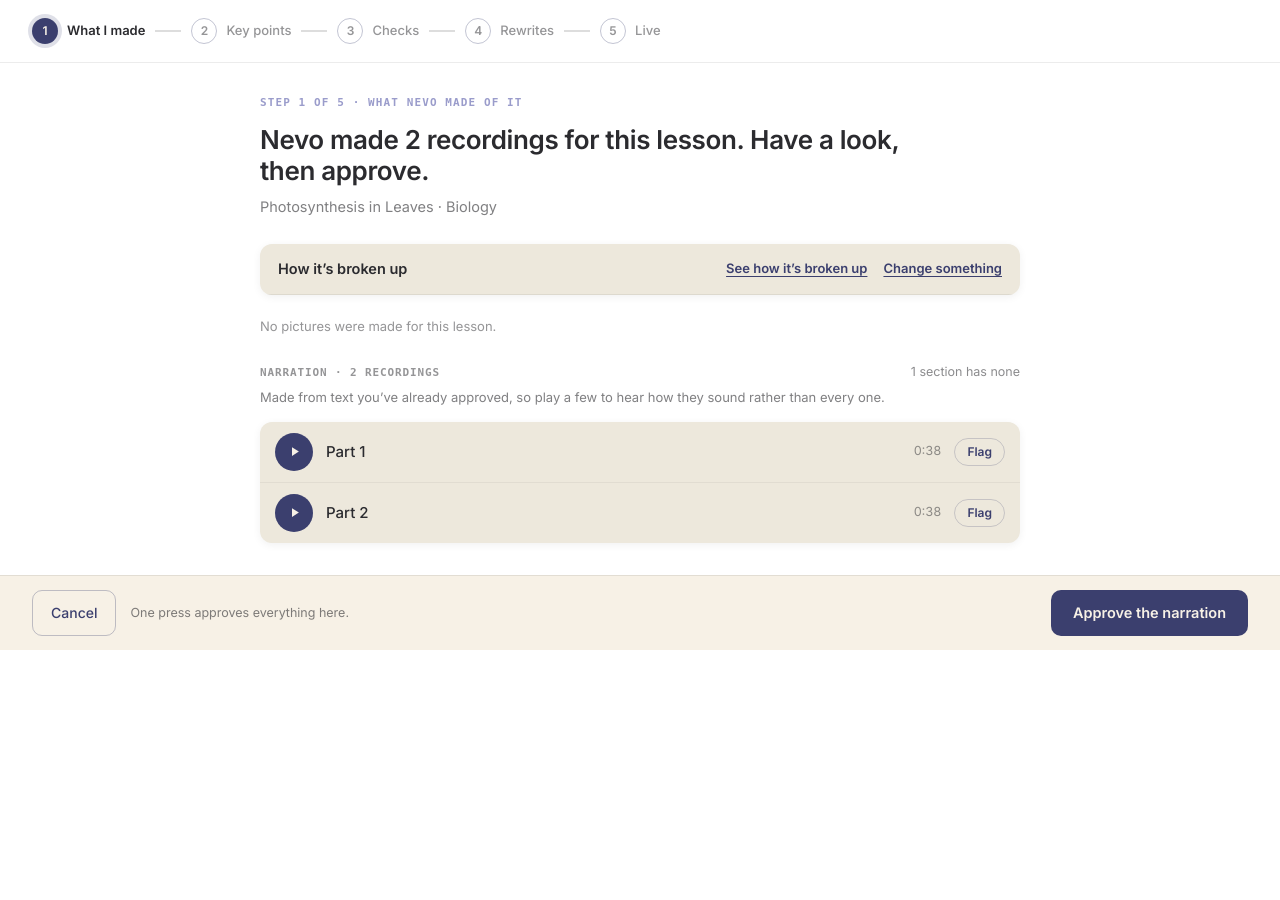
Scenario: a flagged picture or recording that comes back remade › marks a remade recording the same way
Expected: the navigation bar named "Lesson review steps" is shown, [0, 0, 1279, 63]
Step 1. Click the button with aria-label "Flag the narration for Part 1" → (980, 452), box [954, 438, 1005, 466]
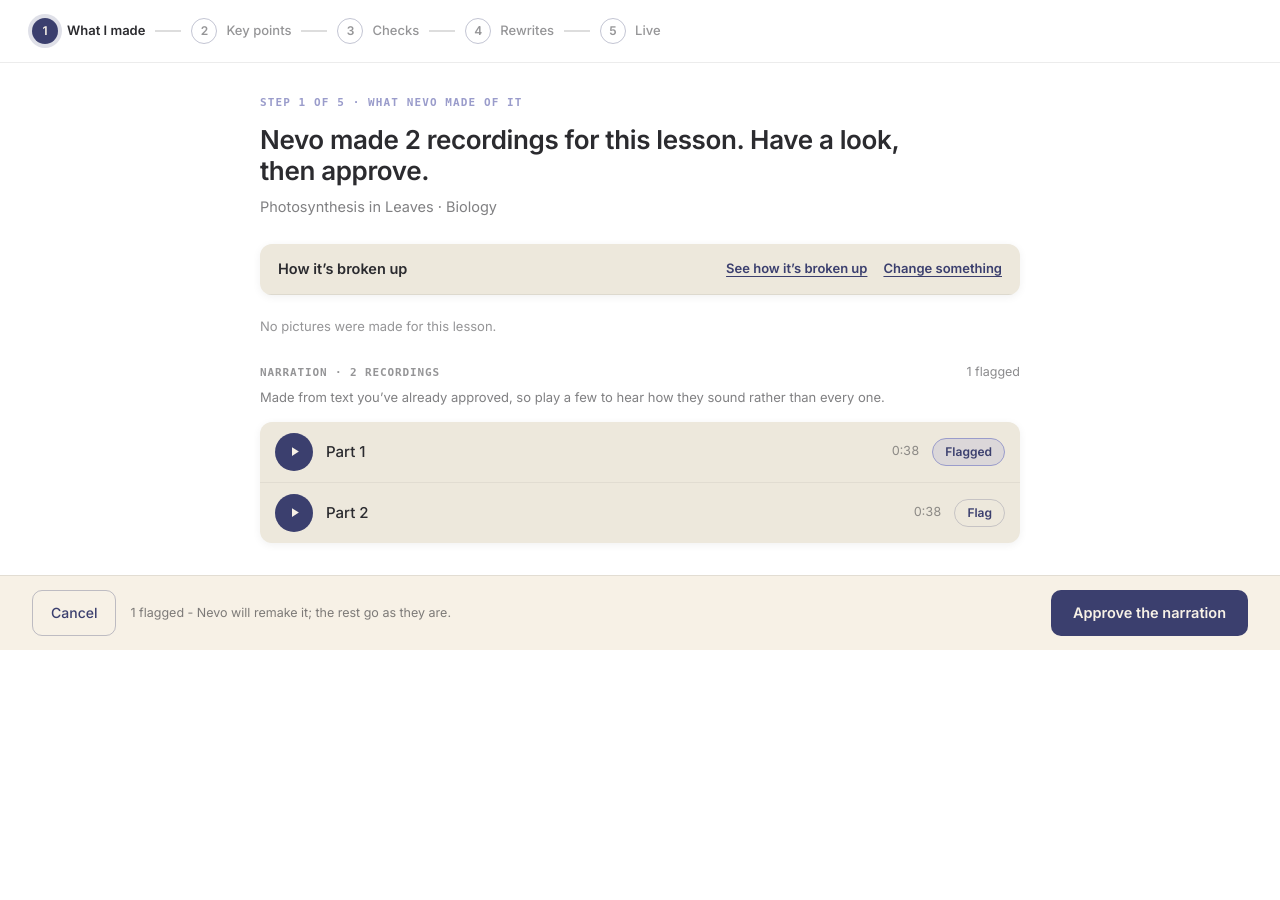
Step 2. Click the button "Approve the narration" → (1150, 613), box [1051, 590, 1248, 636]
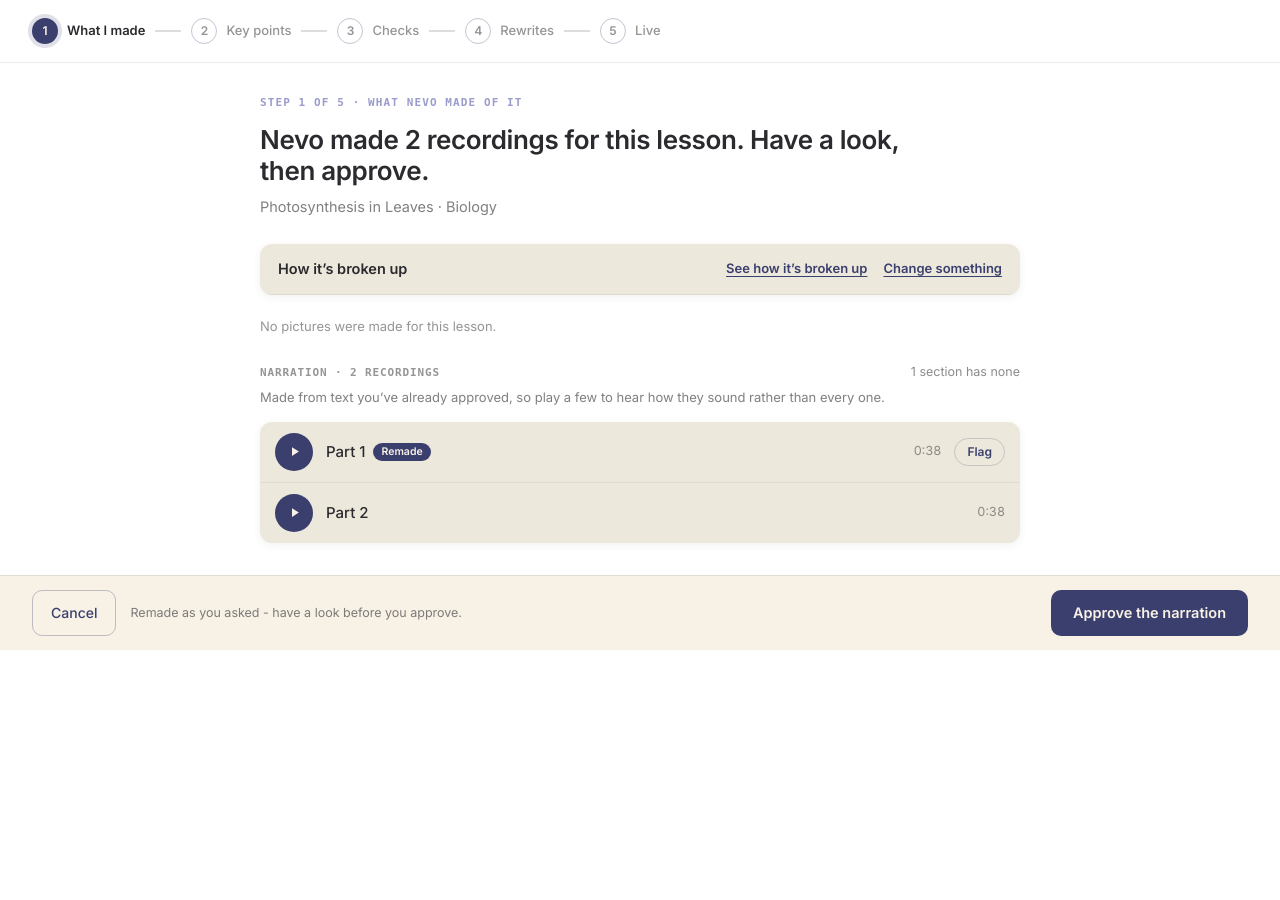
Expected: the text "Remade" is shown, [374, 443, 431, 461]
